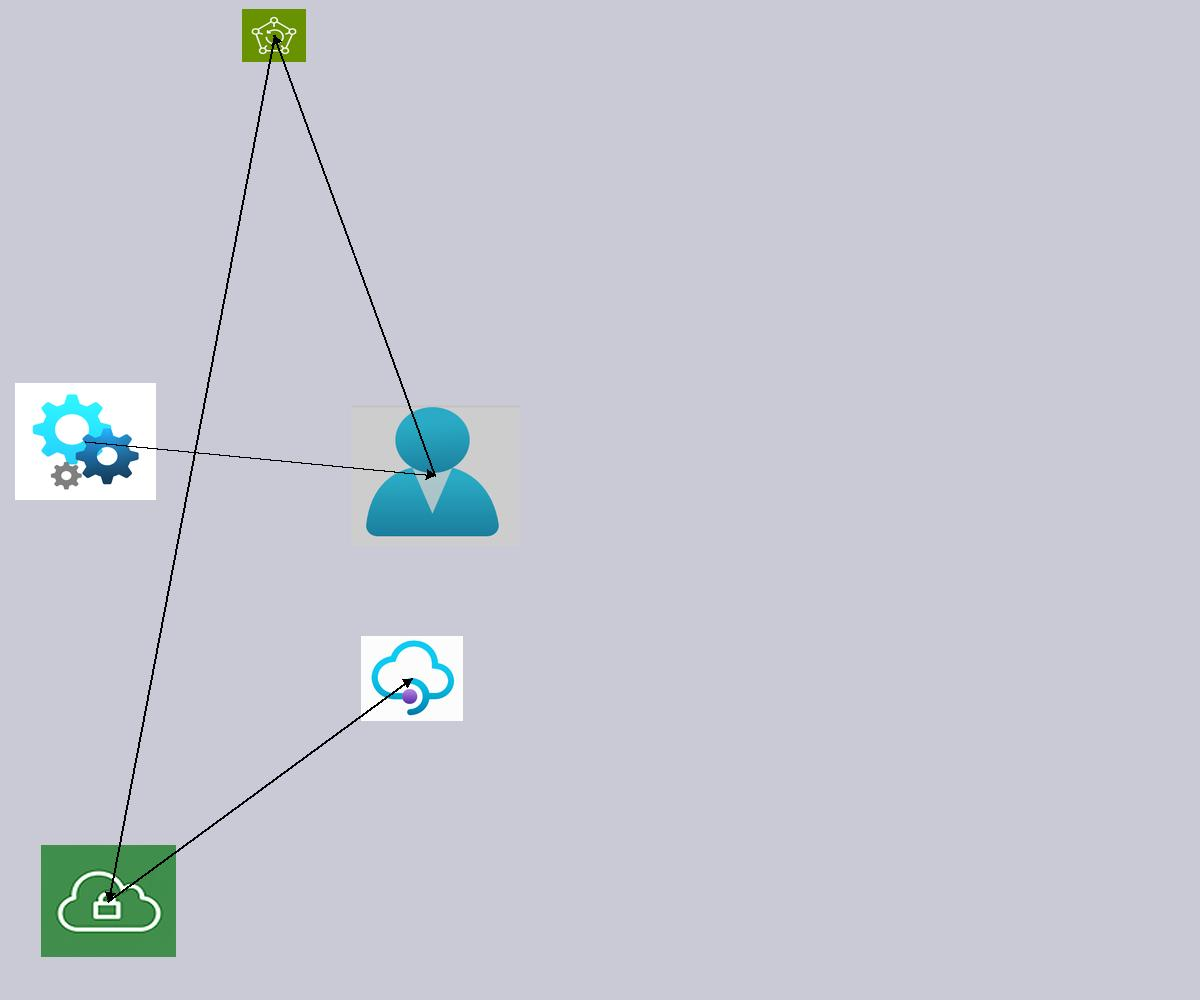AWS-Backup: (242, 9, 306, 62)
AWS-Private_vpc: (41, 845, 176, 957)
Azure_api: (15, 383, 156, 500)
Azure_api_gateway: (361, 636, 463, 721)
Azure_users: (351, 405, 520, 546)
